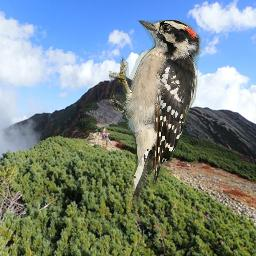Woodpecker: (109, 20, 203, 211)
